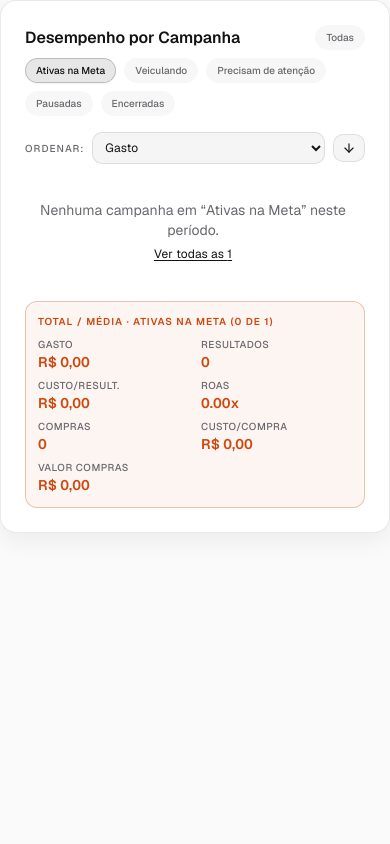
CampaignsTable — o filtro que mentia › status desconhecido fica visível em "atenção", e não arquivado em "Encerradas"
What coordinates should you click on to do the following:
click the button "Encerradas"
I would click on:
 (138, 104)
Its box is left=101, top=91, right=175, bottom=116.
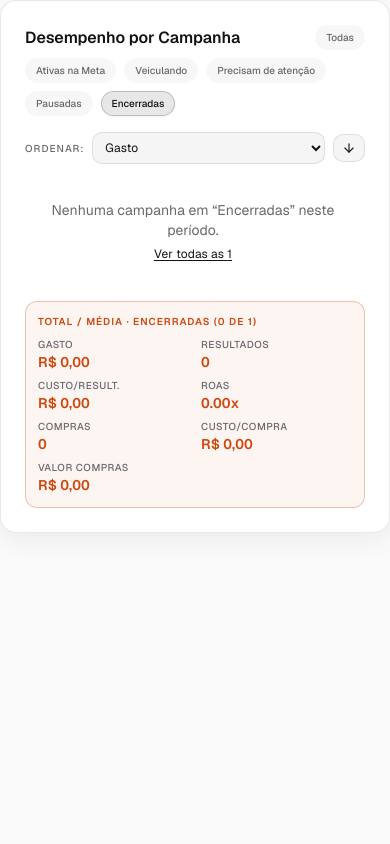
What coordinates should you click on to do the following:
click the button "Precisam de atenção"
I would click on:
 (266, 70)
Its box is left=206, top=58, right=326, bottom=83.
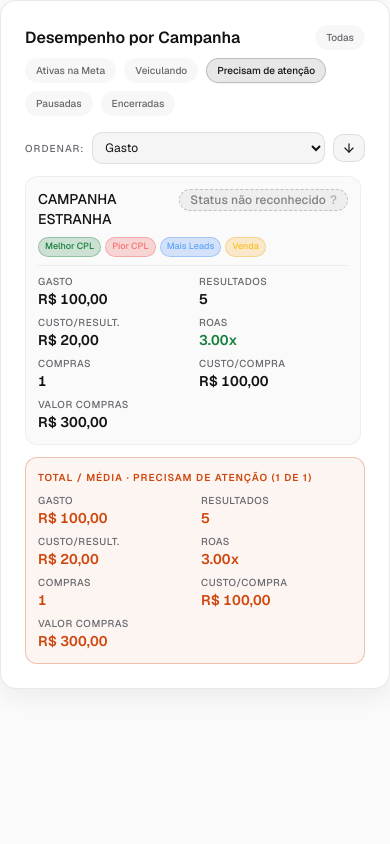
Expected: the text "CAMPANHA ESTRANHA" is shown, left=38, top=190, right=117, bottom=228
